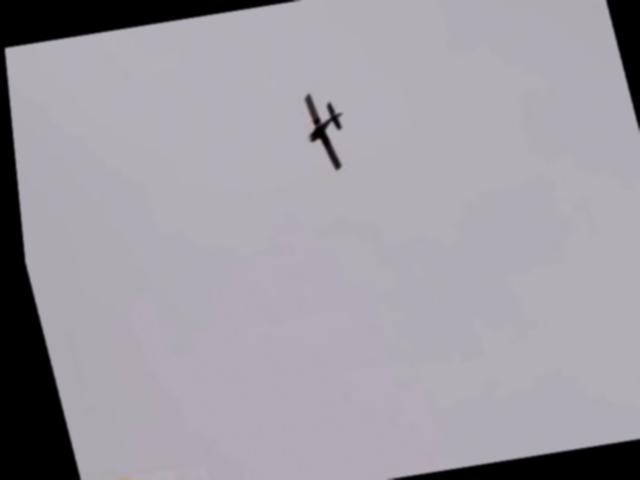uav: (295, 87, 354, 171)
